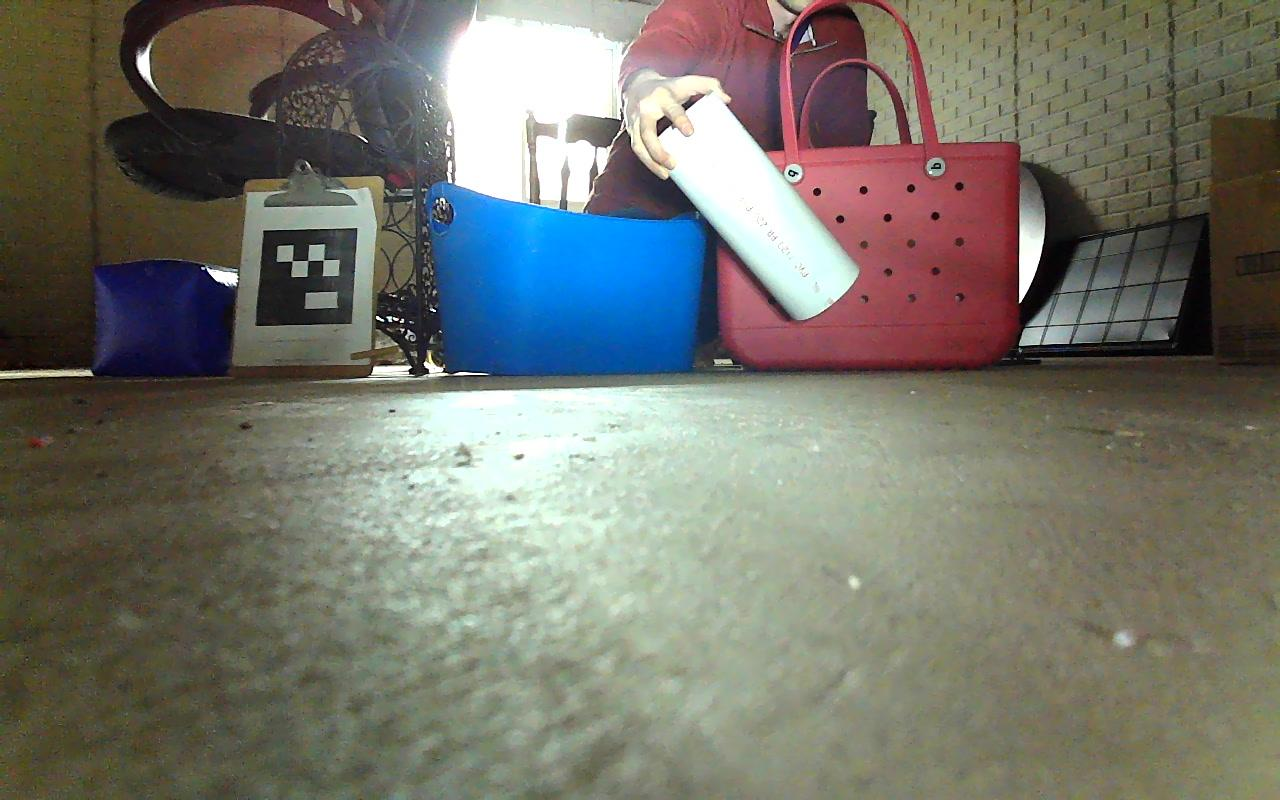coral: (639, 92, 861, 320)
